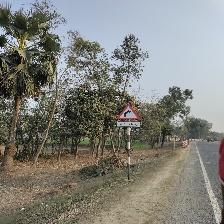Right-turn: (116, 103, 142, 131)
